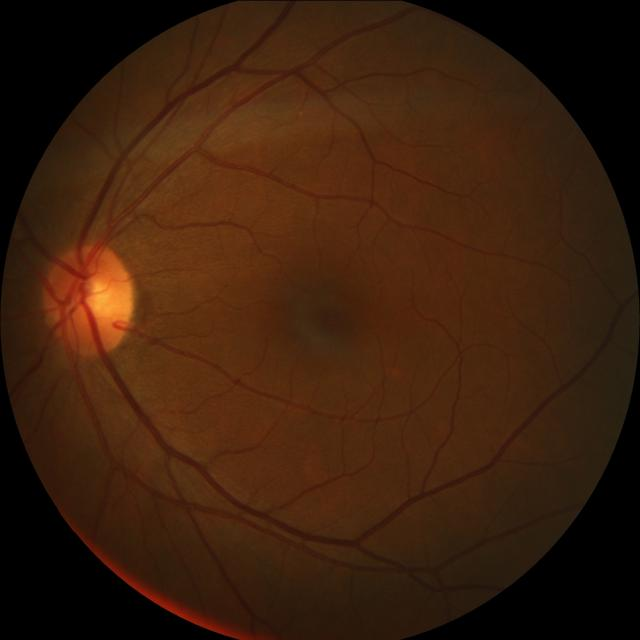OC: (68, 270, 124, 326)
OD: (44, 242, 136, 354)
